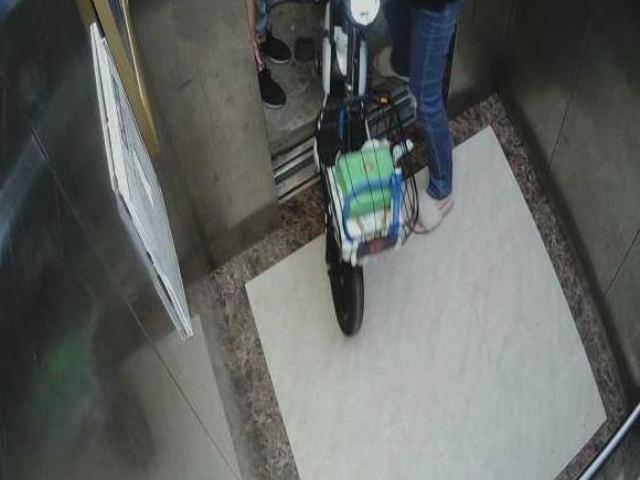emotor: (302, 6, 421, 320)
